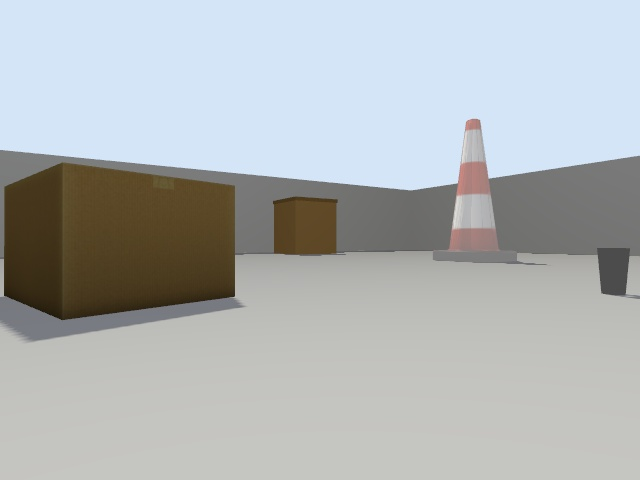carton: (4, 163, 234, 318)
cone_chantier: (433, 119, 516, 262)
gobelet: (597, 248, 630, 296)
